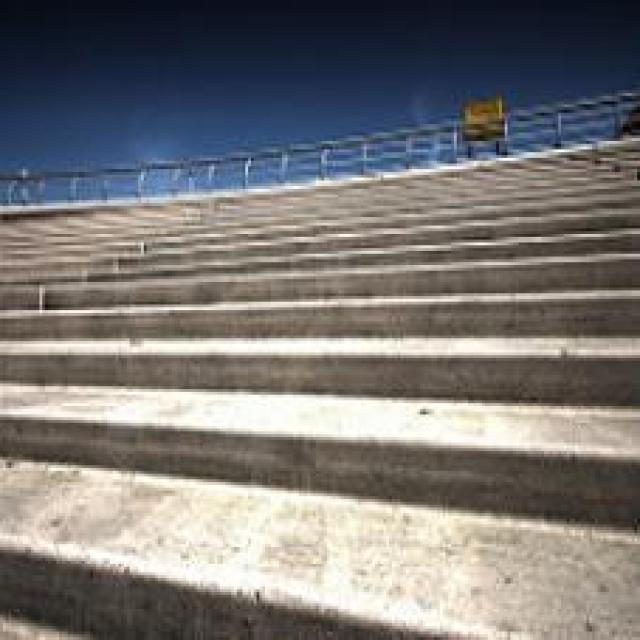upstair: (43, 201, 610, 528)
